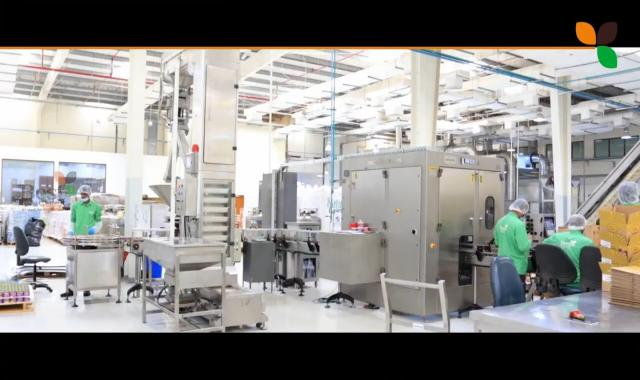hairnet: (620, 178, 639, 207), (508, 198, 530, 218), (568, 213, 586, 232), (79, 185, 92, 200)
